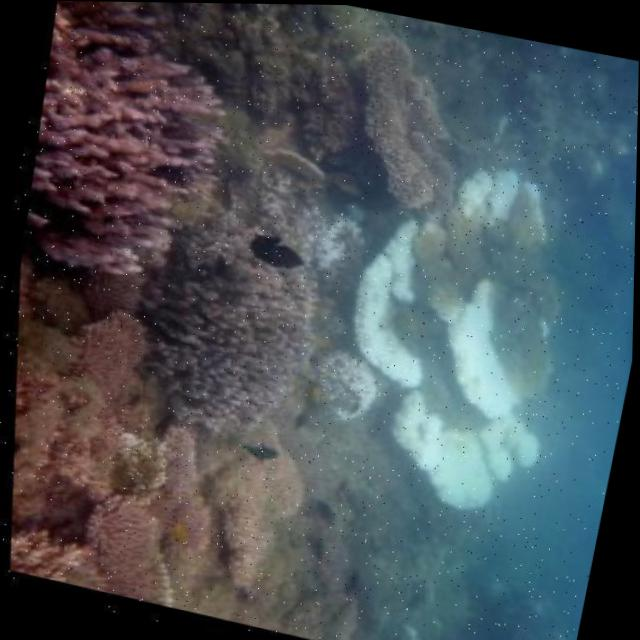Bleached Coral: (341, 312, 593, 556), (301, 213, 486, 436), (413, 126, 594, 244)
Dead Coral: (143, 215, 326, 450)
Healthy Coral: (7, 15, 225, 279)
